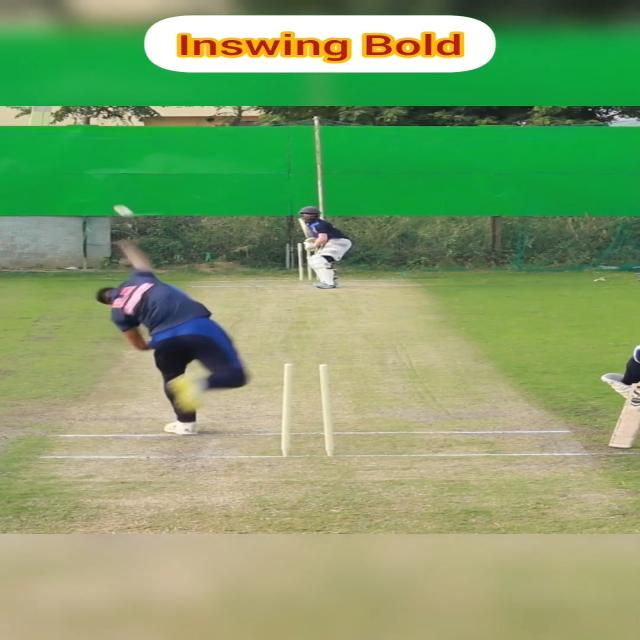ball: (114, 205, 136, 219)
stump: (276, 362, 337, 456)
